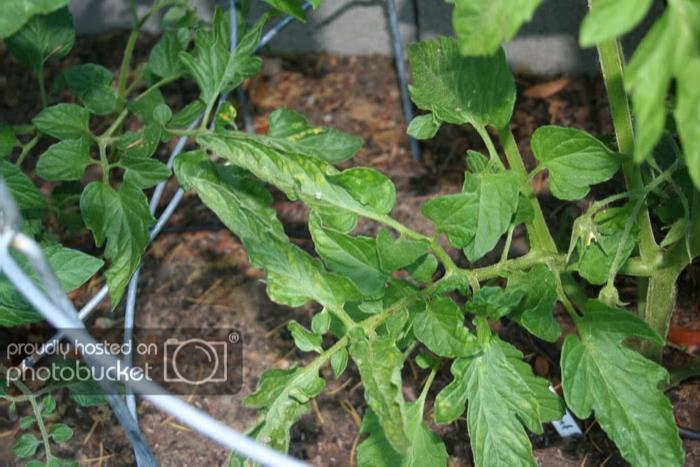Tomato leaf mosaic virus: (541, 301, 682, 466), (423, 298, 555, 467), (191, 176, 332, 310), (401, 31, 521, 145), (76, 172, 163, 312), (528, 127, 625, 205), (394, 287, 480, 359), (424, 188, 488, 247)
